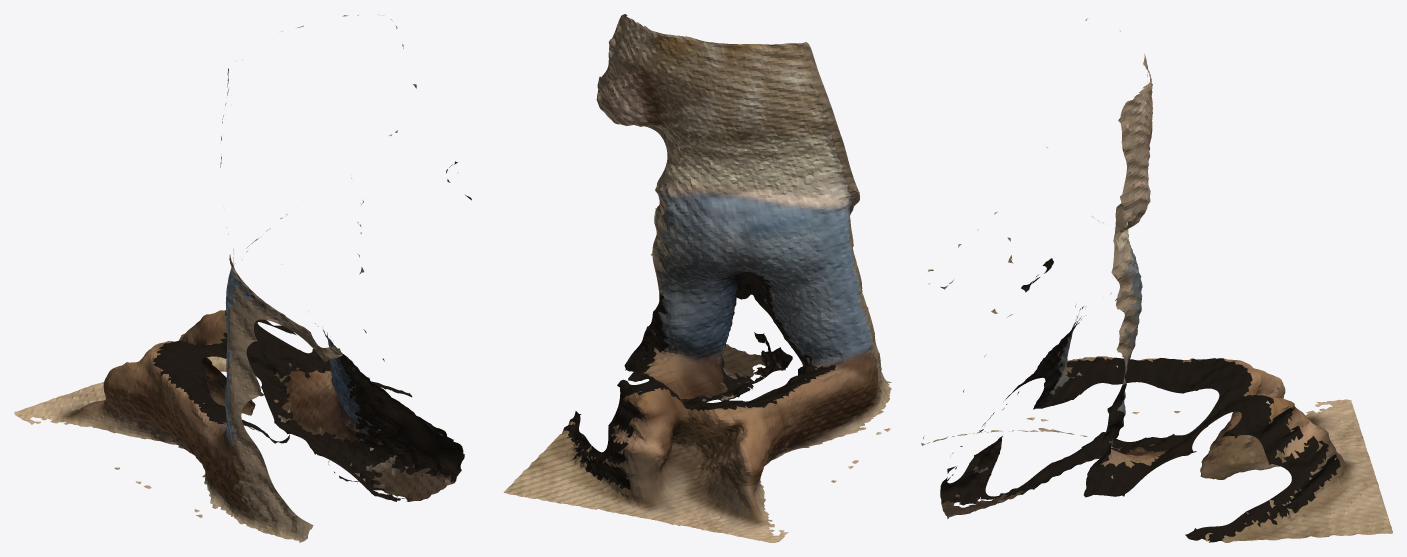
3 renders of one model, left to right at view 1: azimuth 30°, elevation 25°; view 2: azimuth 150°, elevation 25°; view 3: azimuth 270°, elevation 25°, orthographic. The views are drawn at different scales.
Size of the model in its own units: 0.633 by 0.8148 by 0.803.
Materials: 1 (1 with a texture image).
